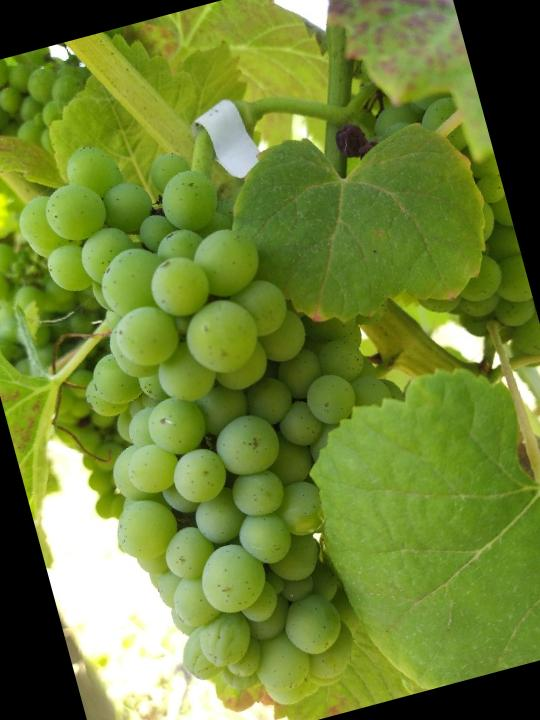grape: (4, 81, 475, 720)
